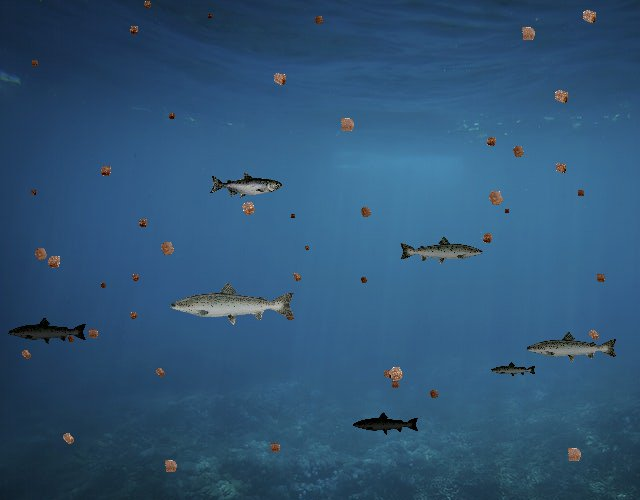Fish: (168, 280, 297, 326), (526, 330, 620, 364), (398, 235, 484, 266), (8, 316, 89, 346), (209, 173, 282, 199), (352, 412, 420, 436), (491, 361, 538, 378)
Pellet: (234, 195, 262, 223), (266, 66, 293, 93), (56, 426, 81, 451), (27, 187, 39, 199)
